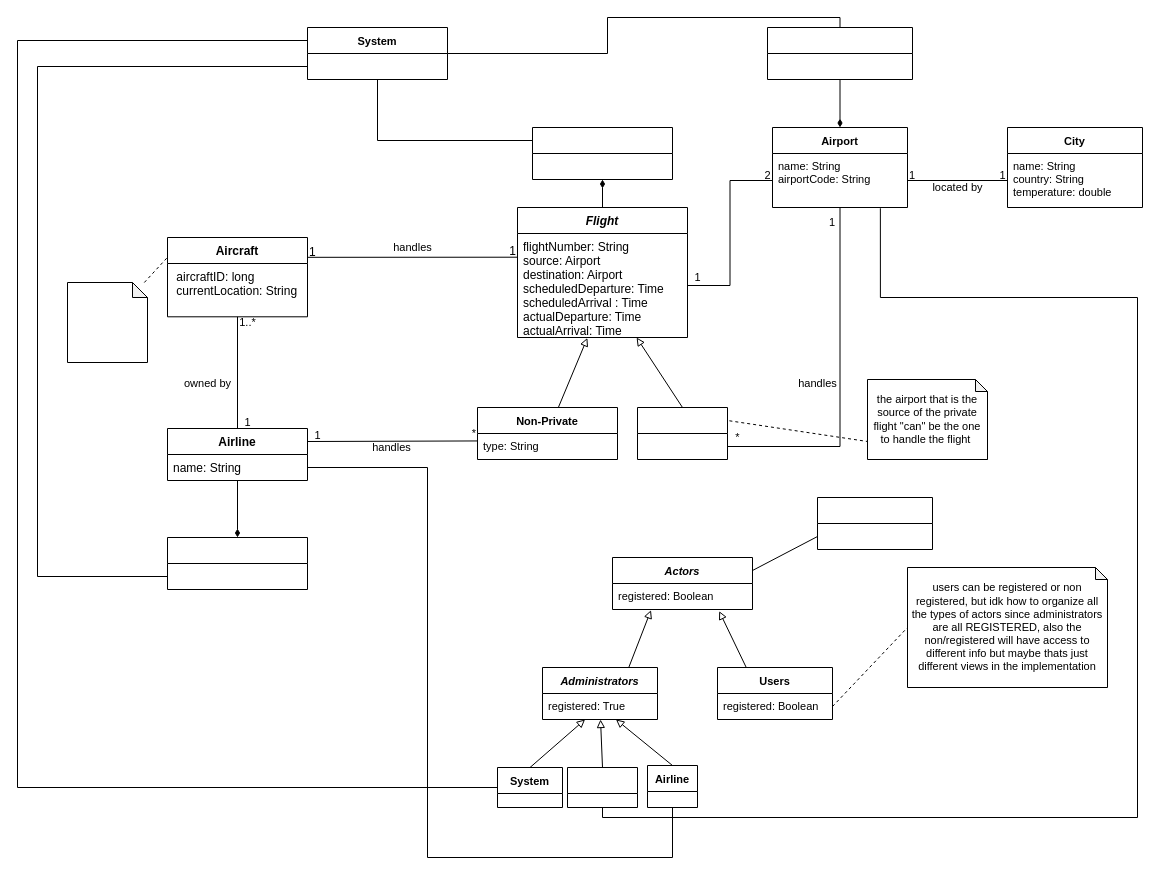
Image size: 1160x876. Some labels were removed from this diagram. The centre of each missing label's shape, as x and y in pixels:
aircraft is always either at an airport or in transit: the point at 107,322
AirlinesRecord: the point at 237,563
Airports: the point at 602,787
AirportsRecord: the point at 839,53
FlightsRecord: the point at 602,153
Login: the point at 874,523
Private: the point at 682,433
